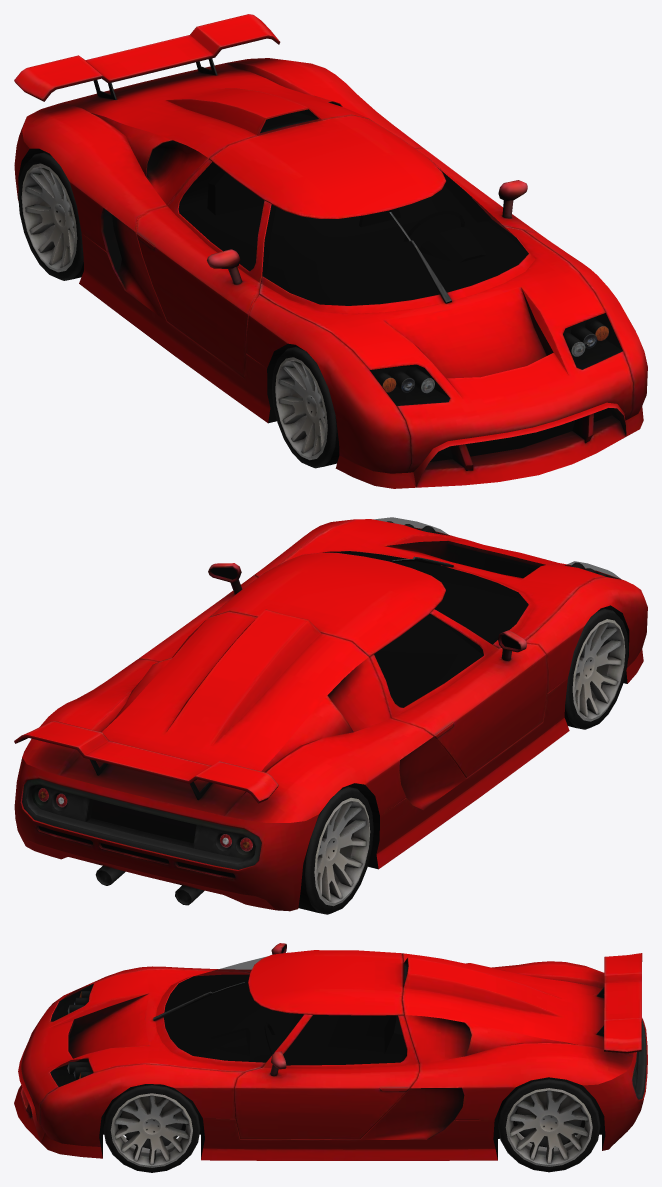
Rendered from car_sport.glb.
3 views of the same model, one above another, from view 1: azimuth 30°, elevation 25°; view 2: azimuth 150°, elevation 25°; view 3: azimuth 270°, elevation 25° (orthographic). The views are drawn at different scales.
Visible parts, largest first — view 1: Sport body_Body_0, Sport body_Glass_0, Wheel_H003_Wheel_0, Wheel_H002_Wheel_0, Sport body_Optics_0; view 2: Sport body_Body_0, Sport body_Glass_0, Wheel_H003_Wheel_0, Wheel_H002_Wheel_0; view 3: Sport body_Body_0, Sport body_Glass_0, Wheel_H001_Wheel_0, Wheel_H_Wheel_0.
Part boxes in pixels (x1,y1,x2,y2): Sport body_Body_0: (14,14,647,488); Sport body_Glass_0: (179,162,622,405); Wheel_H003_Wheel_0: (18,151,83,280); Wheel_H002_Wheel_0: (272,346,339,468); Sport body_Optics_0: (382,326,608,393); Sport body_Body_0: (14,519,647,911); Sport body_Glass_0: (323,517,621,707); Wheel_H003_Wheel_0: (298,786,373,914); Wheel_H002_Wheel_0: (564,608,628,729); Sport body_Body_0: (14,943,647,1160); Sport body_Glass_0: (50,957,406,1086); Wheel_H001_Wheel_0: (498,1077,600,1172); Wheel_H_Wheel_0: (103,1084,200,1172).
Bounding box in the file's own units: 1.99 × 1.17 × 4.4.
Materials: 4 (3 with a texture image).
